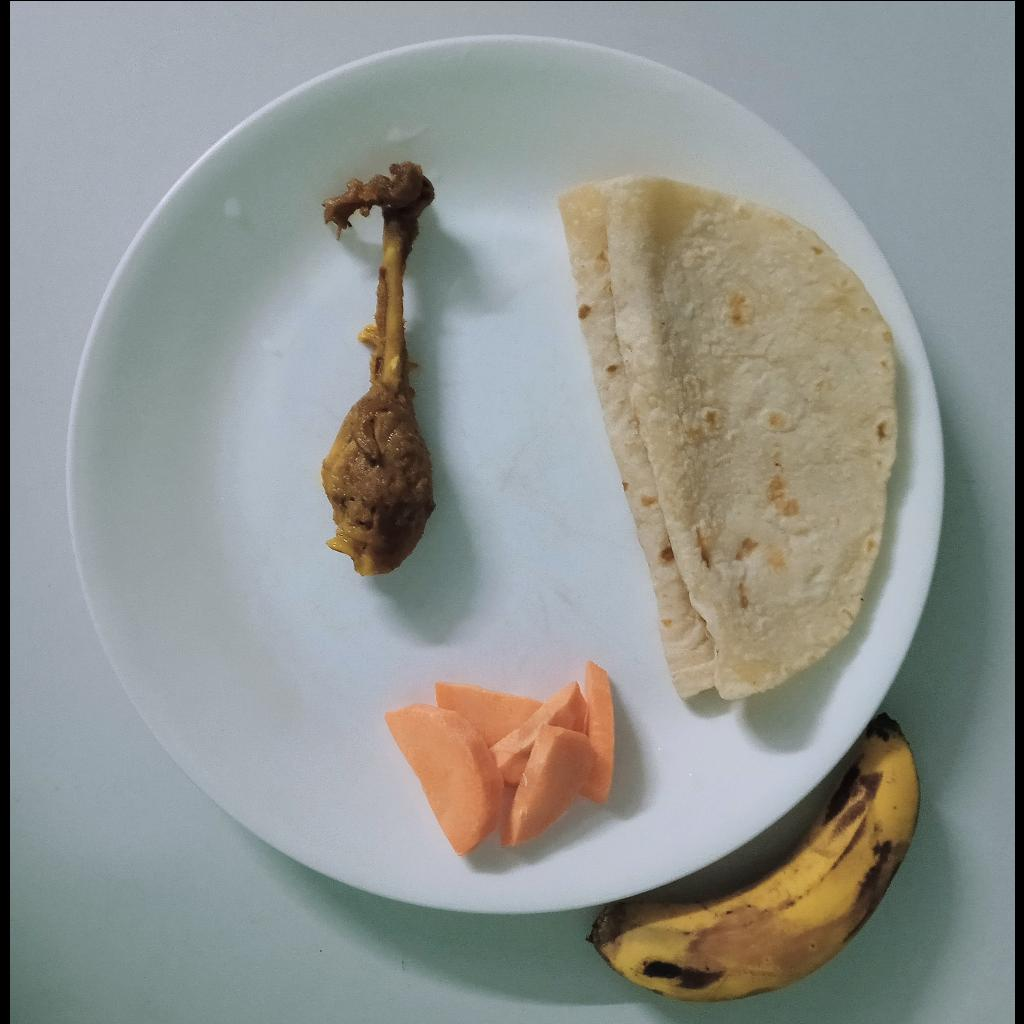banana: (585, 712, 920, 1003)
carrot: (382, 659, 614, 856)
chicken: (319, 161, 435, 577)
ruti: (555, 175, 899, 702)
